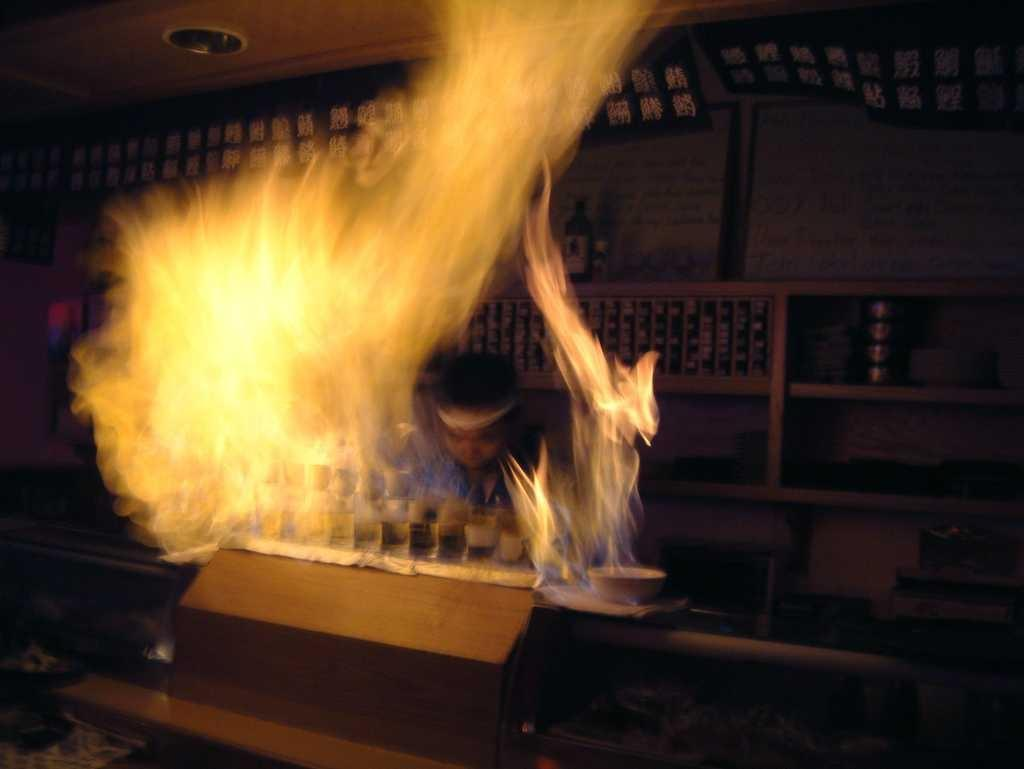fire: (91, 184, 659, 564)
